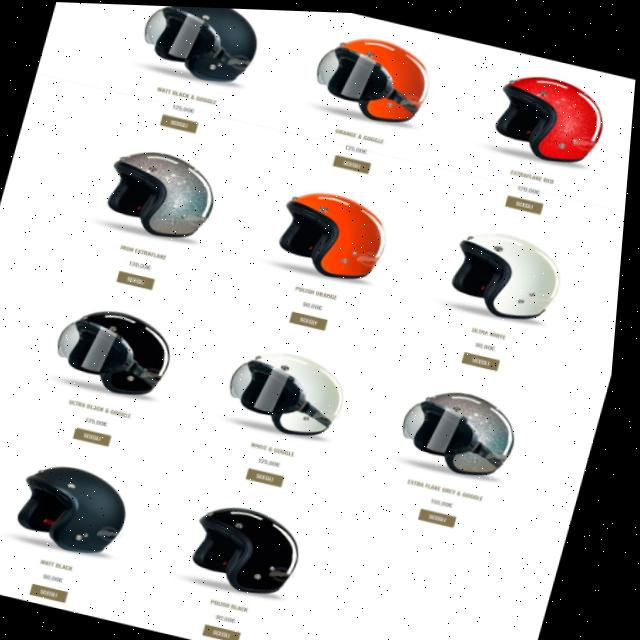helmet: (220, 336, 365, 446), (395, 373, 535, 483), (303, 21, 444, 130), (49, 296, 190, 404), (443, 217, 578, 329), (267, 177, 403, 288), (14, 453, 150, 564), (483, 61, 619, 169), (97, 139, 231, 248), (188, 493, 322, 602), (131, 4, 270, 92)
